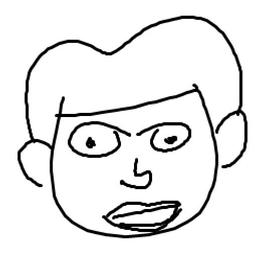ear: (10, 139, 53, 195), (216, 107, 248, 177)
eye: (64, 118, 132, 160), (133, 119, 195, 155)
nose: (117, 155, 154, 192)
open_mouth: (97, 197, 189, 236)
